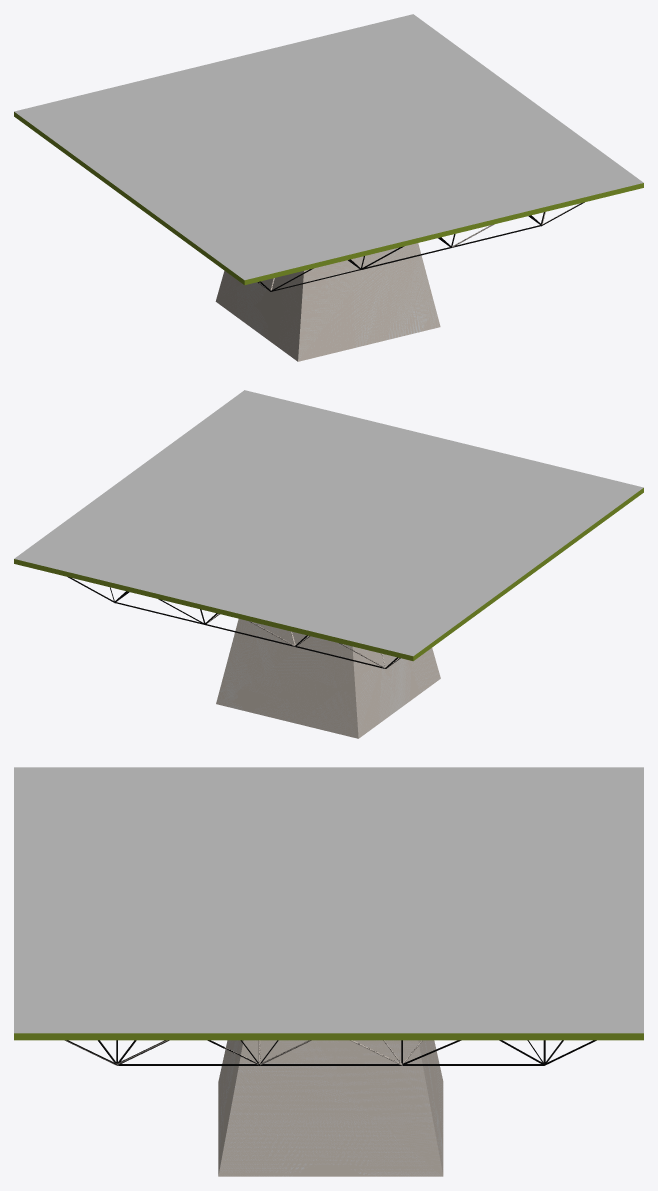
3 renders of one model, top to bottom at view 1: azimuth 30°, elevation 25°; view 2: azimuth 150°, elevation 25°; view 3: azimuth 270°, elevation 25°, orthographic. The views are drawn at different scales.
Parts seen in each view (by area): view 1: instance_0_254, instance_0_082, instance_0_255; view 2: instance_0_254, instance_0_082, instance_0_255; view 3: instance_0_254, instance_0_082, instance_0_255.
Part boxes in pixels (bbox=[...]): instance_0_254: bbox=[14, 14, 643, 280]; instance_0_082: bbox=[215, 243, 440, 361]; instance_0_255: bbox=[14, 112, 643, 285]; instance_0_254: bbox=[14, 390, 643, 656]; instance_0_082: bbox=[216, 619, 440, 738]; instance_0_255: bbox=[14, 488, 643, 661]; instance_0_254: bbox=[14, 767, 643, 1033]; instance_0_082: bbox=[218, 1040, 443, 1176]; instance_0_255: bbox=[14, 1033, 643, 1040].
Bounding box in the file's own units: 1.07 × 1.07 × 0.4278.
